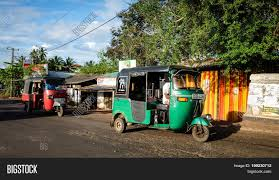tuk tuk: (113, 66, 214, 142), (21, 76, 69, 117)
